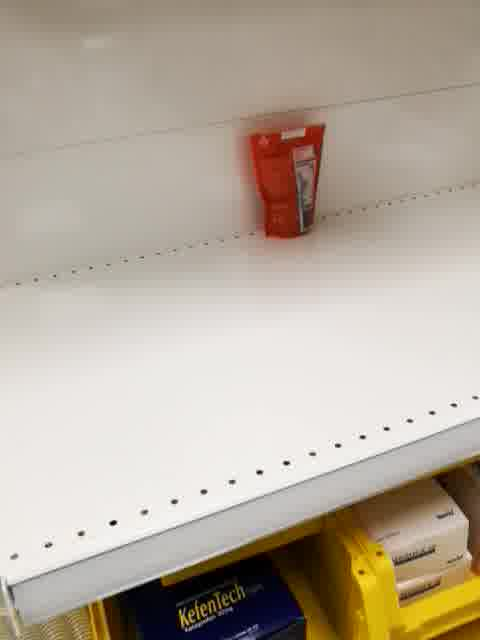whitechia: (246, 122, 331, 245)
